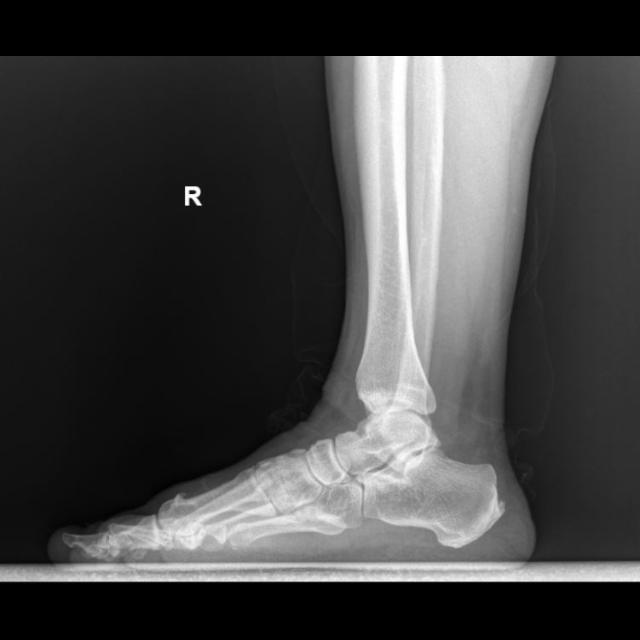a: (363, 450, 504, 548)
b: (306, 438, 349, 484)
c: (164, 480, 271, 546)
